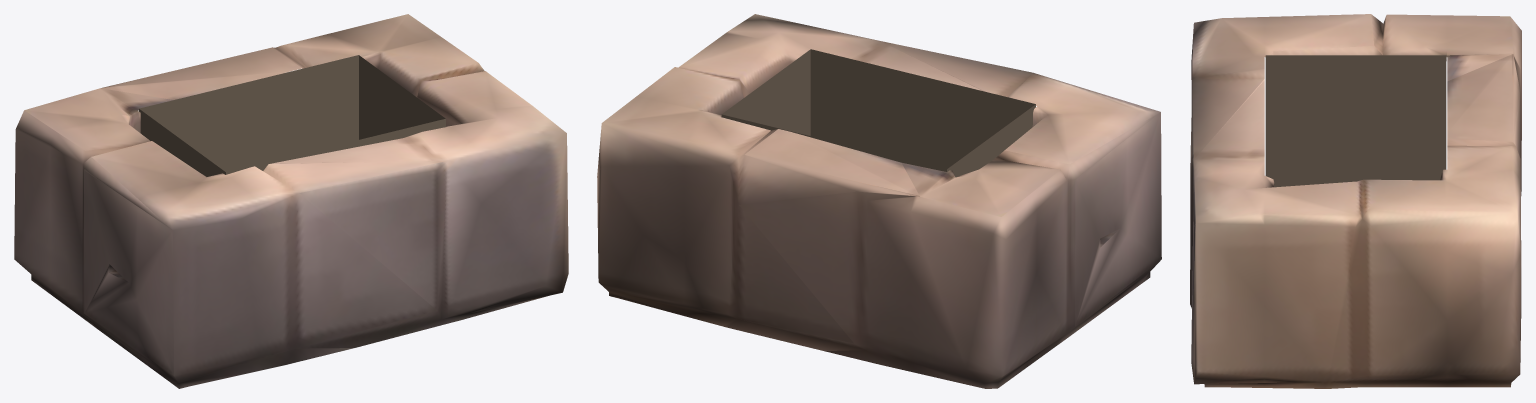
File: kitchen-chimney-course.glb
3 views of the same model, side by side, from view 1: azimuth 30°, elevation 25°; view 2: azimuth 150°, elevation 25°; view 3: azimuth 270°, elevation 25° (orthographic). The views are drawn at different scales.
Parts seen in each view (by area): view 1: Original fireplace stone chimney course, Continuous soot-dark flue lining; view 2: Original fireplace stone chimney course, Continuous soot-dark flue lining; view 3: Original fireplace stone chimney course, Continuous soot-dark flue lining.
Part boxes in pixels (x1,y1,x2,y2): Original fireplace stone chimney course: (14,14,568,388); Continuous soot-dark flue lining: (139,55,445,176); Original fireplace stone chimney course: (597,14,1161,388); Continuous soot-dark flue lining: (721,49,1035,176); Original fireplace stone chimney course: (1190,14,1521,388); Continuous soot-dark flue lining: (1265,55,1446,187).
Bounding box in the file's own units: 0.58 × 0.24 × 0.4.
Materials: 2 (1 with a texture image).
